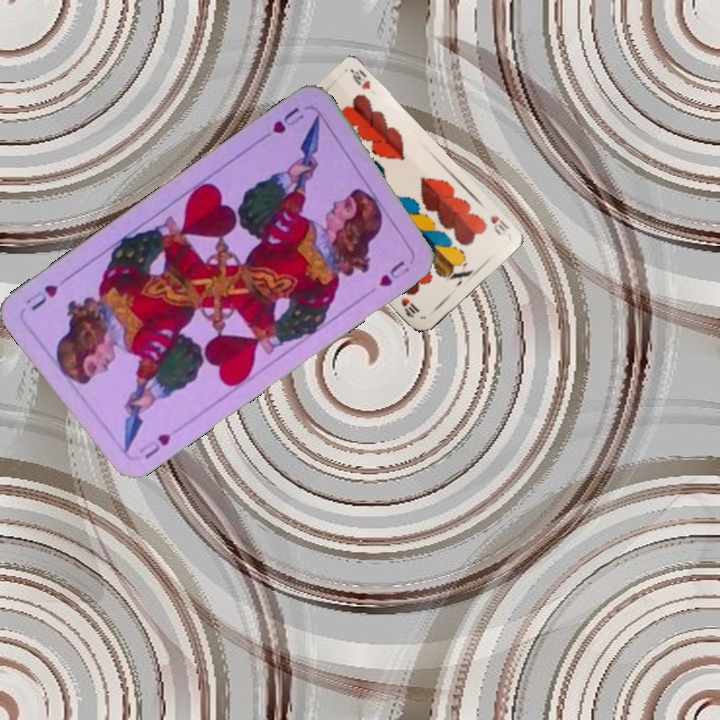H10: (486, 211, 512, 237)
HU: (131, 429, 174, 462), (268, 103, 307, 137)
